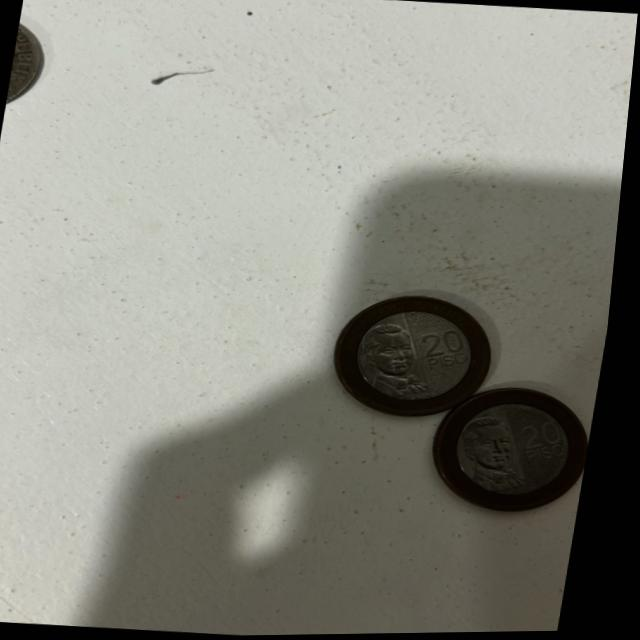20_New_Front: (417, 326, 478, 380), (518, 418, 581, 470)
